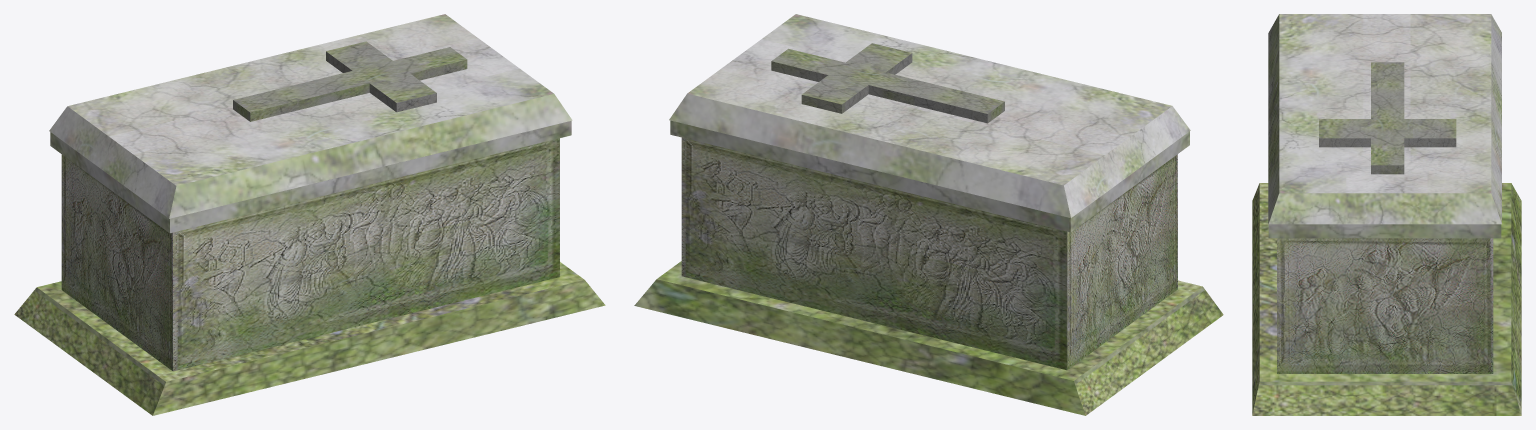
File: coffin.FBX
3 views of the same model, side by side, from view 1: azimuth 30°, elevation 25°; view 2: azimuth 150°, elevation 25°; view 3: azimuth 270°, elevation 25° (orthographic). The views are drawn at different scales.
Parts seen in each view (by area): view 1: Box01, Box02, Box03, Box04; view 2: Box01, Box02, Box03, Box04; view 3: Box02, Box01, Box03, Box04.
Boxes of the visible parts, x1,y1,x2,y2 form: Box01: (50,121,571,371); Box02: (49,14,572,218); Box03: (14,262,605,415); Box04: (233,41,467,121); Box01: (670,120,1189,370); Box02: (669,14,1190,217); Box03: (634,261,1223,415); Box04: (771,43,1004,123); Box02: (1268,14,1501,224); Box01: (1268,224,1501,373); Box03: (1252,183,1521,415); Box04: (1319,62,1456,174).
Size of the model in its own units: 92.46 by 48.98 by 42.92.
